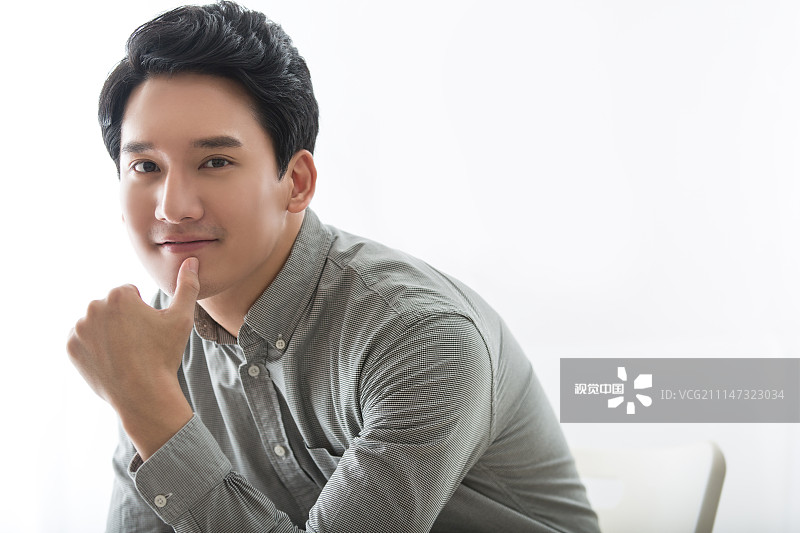no-phone: (45, 250, 224, 439)
